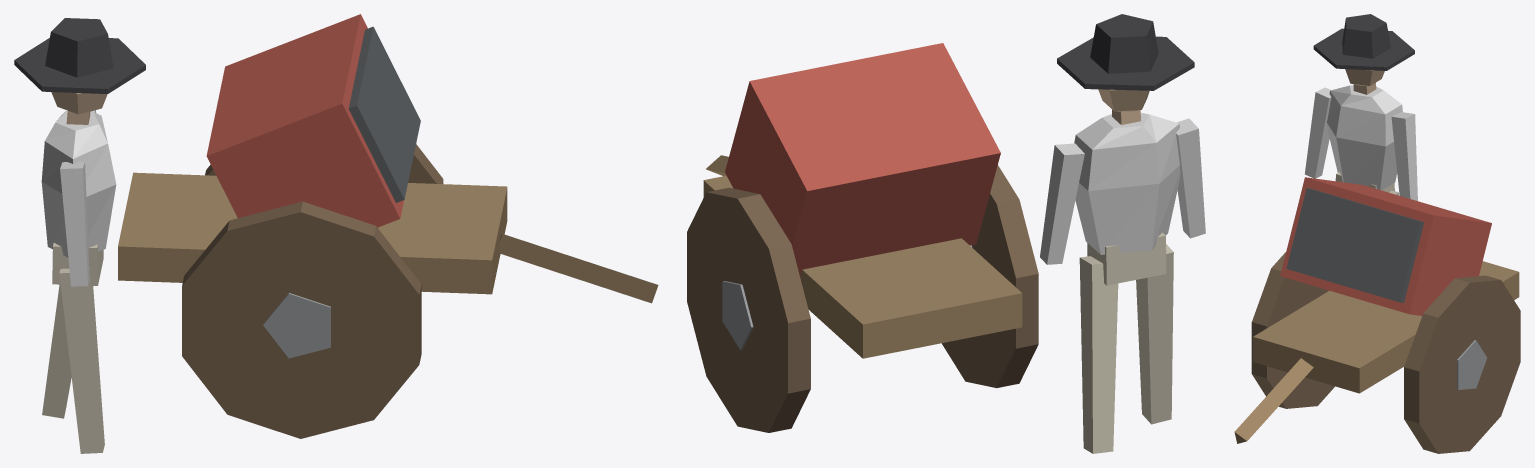
Rendered from hwach-a.glb.
3 views of the same model, side by side, from view 1: azimuth 30°, elevation 25°; view 2: azimuth 150°, elevation 25°; view 3: azimuth 270°, elevation 25° (orthographic). The views are drawn at different scales.
Parts seen in each view (by area): view 1: LOD0; view 2: LOD0; view 3: LOD0.
Part boxes in pixels (x1=…): LOD0: x1=14, y1=14, x2=658, y2=453; LOD0: x1=687, y1=14, x2=1205, y2=453; LOD0: x1=1234, y1=14, x2=1520, y2=453.
Size of what is drawn, in the model's own units: 1.02 by 0.7459 by 0.616.
